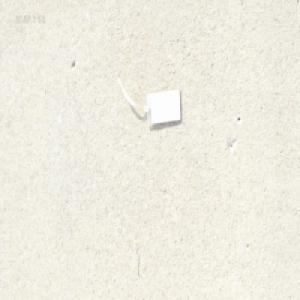LuggageTag: (114, 69, 184, 127)
